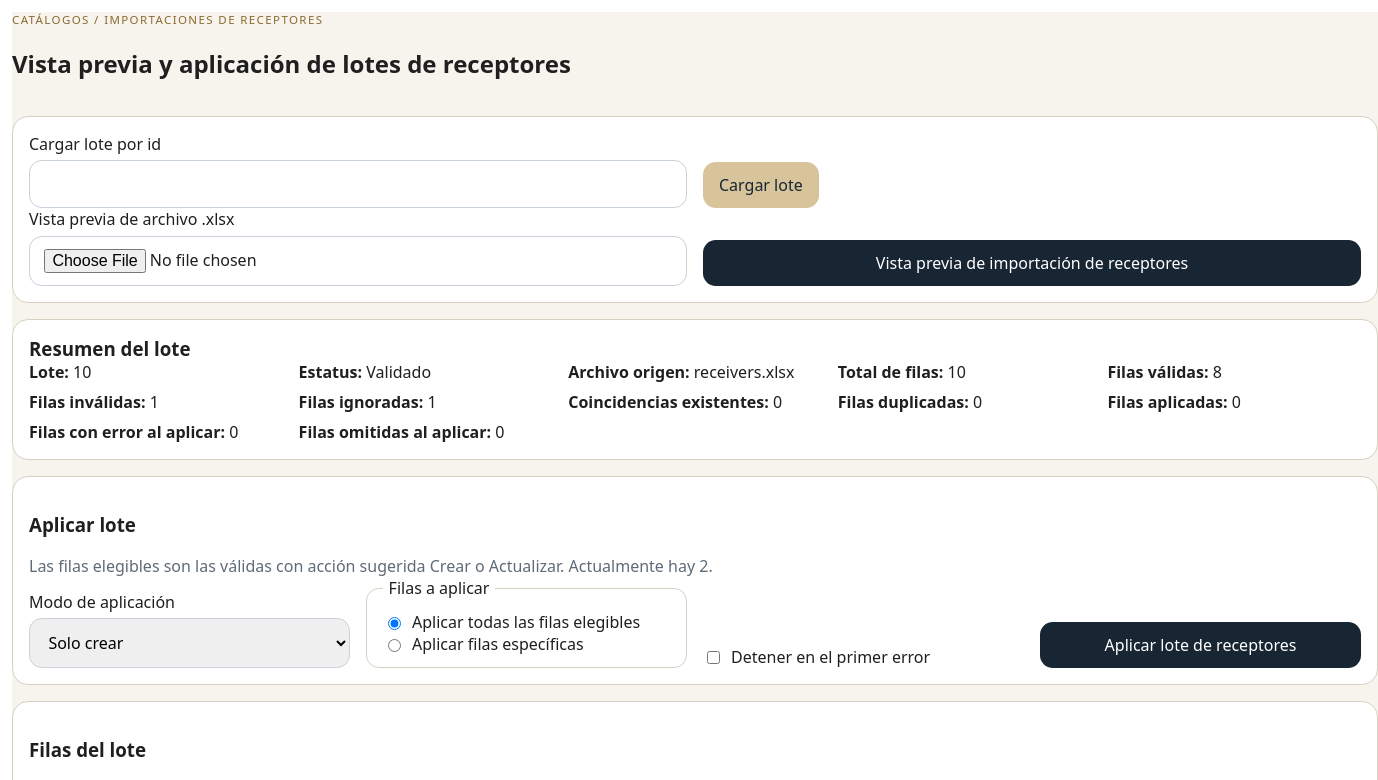
Test case: ReceiverImportsPageComponent › shows a validation message when specific row input is invalid
The image size is (1378, 780).
Click the button "Aplicar lote de receptores".
click(1200, 645)  # box [1040,622,1361,668]
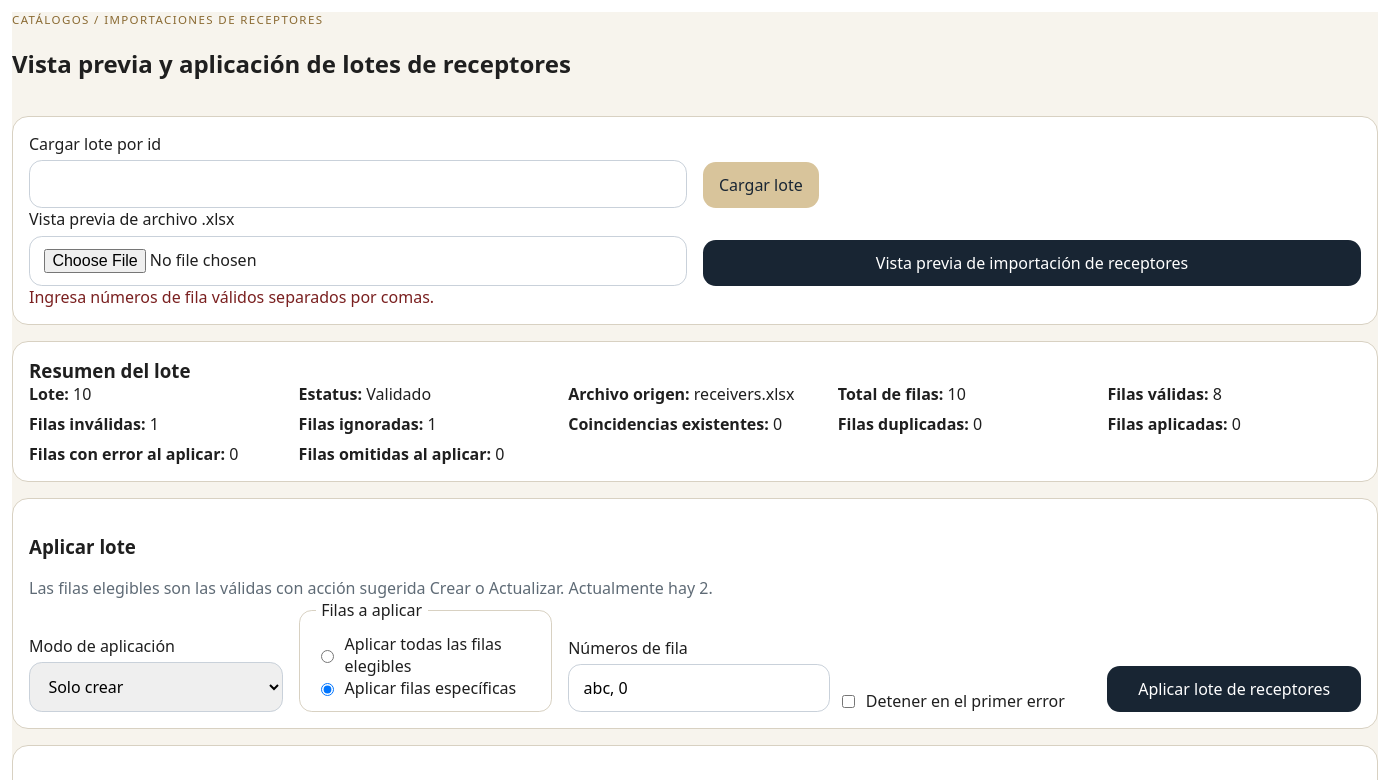
Expected: the text "Ingresa números de fila válidos separados por comas." is shown, [29,286,434,308]
